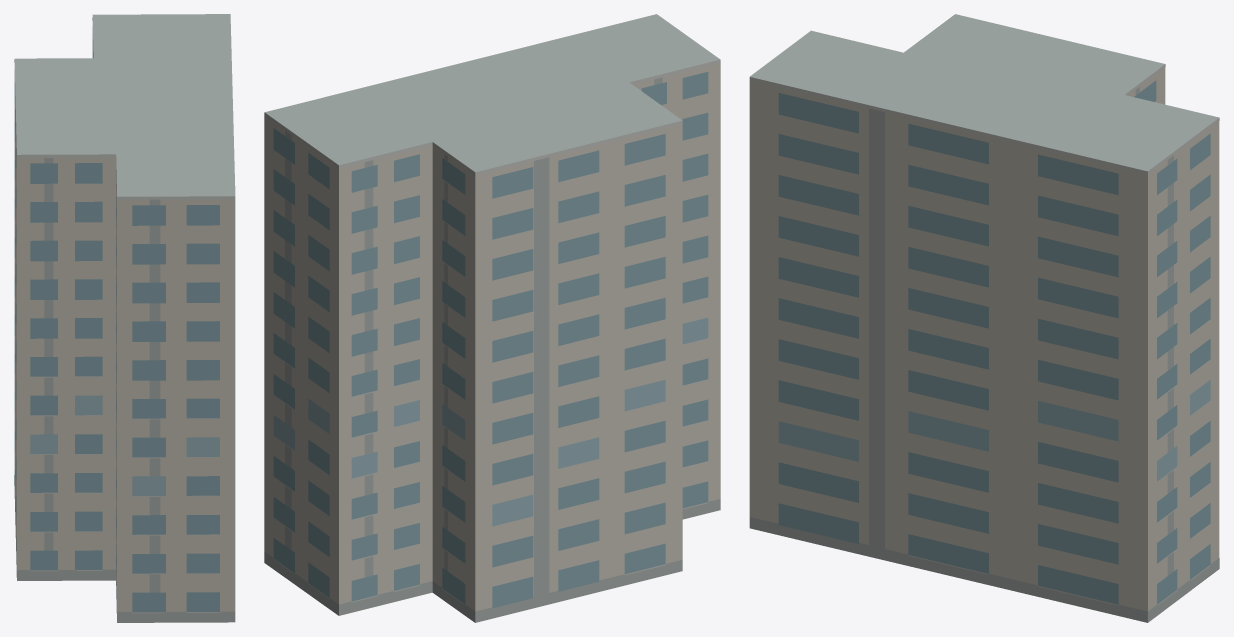
Rendered from residential-d402fad5-3a6c-41dd-bd45-ede35d5a24f3.glb.
The picture shows the model from 3 angles, left to right: view 1: azimuth 30°, elevation 25°; view 2: azimuth 150°, elevation 25°; view 3: azimuth 270°, elevation 25°; orthographic projection. The views are drawn at different scales.
Parts seen in each view (by area): view 1: residential-d402fad5-3a6c-41dd-bd45-ede35d5a24f3.tmp; view 2: residential-d402fad5-3a6c-41dd-bd45-ede35d5a24f3.tmp; view 3: residential-d402fad5-3a6c-41dd-bd45-ede35d5a24f3.tmp.
Boxes of the visible parts, x1=… form: residential-d402fad5-3a6c-41dd-bd45-ede35d5a24f3.tmp: x1=14, y1=14, x2=235, y2=622; residential-d402fad5-3a6c-41dd-bd45-ede35d5a24f3.tmp: x1=264, y1=14, x2=720, y2=622; residential-d402fad5-3a6c-41dd-bd45-ede35d5a24f3.tmp: x1=749, y1=14, x2=1219, y2=622.
Bounding box in the file's own units: 24.68 × 33 × 31.14.
